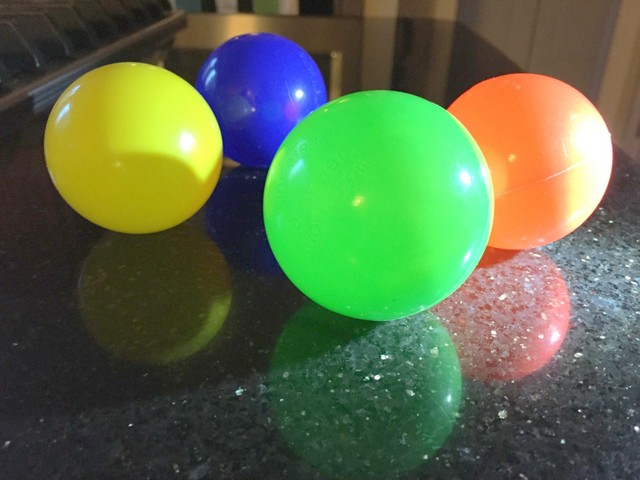Ball: (261, 91, 492, 322)
